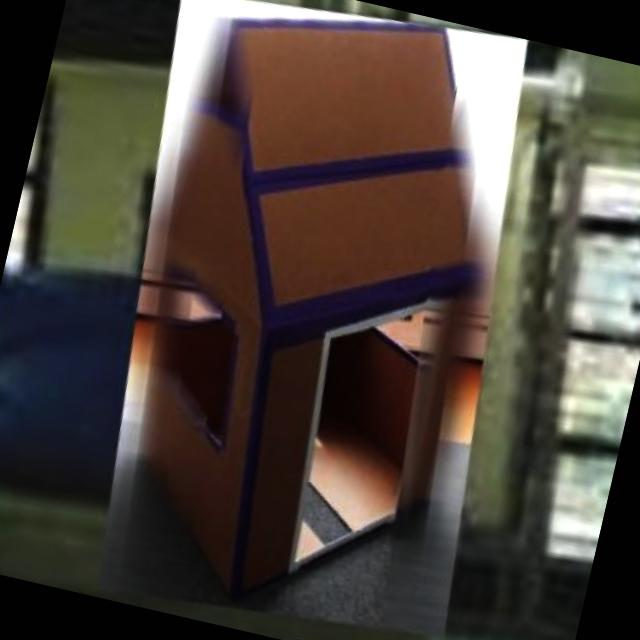box: (38, 0, 584, 640)
